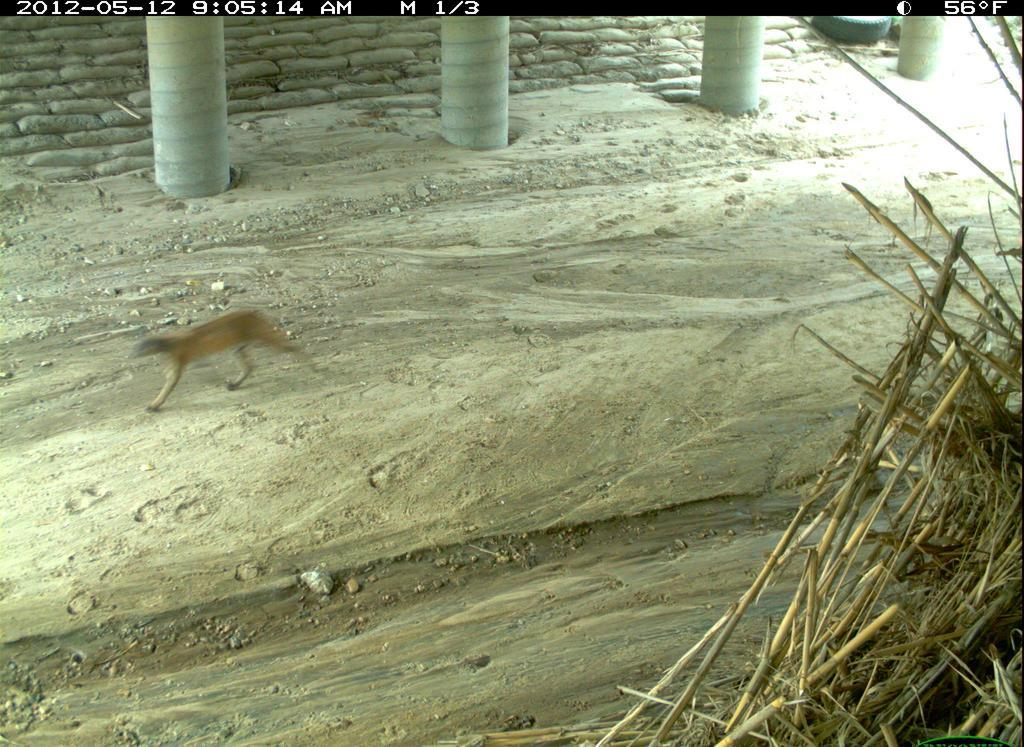bobcat: (121, 296, 341, 432)
